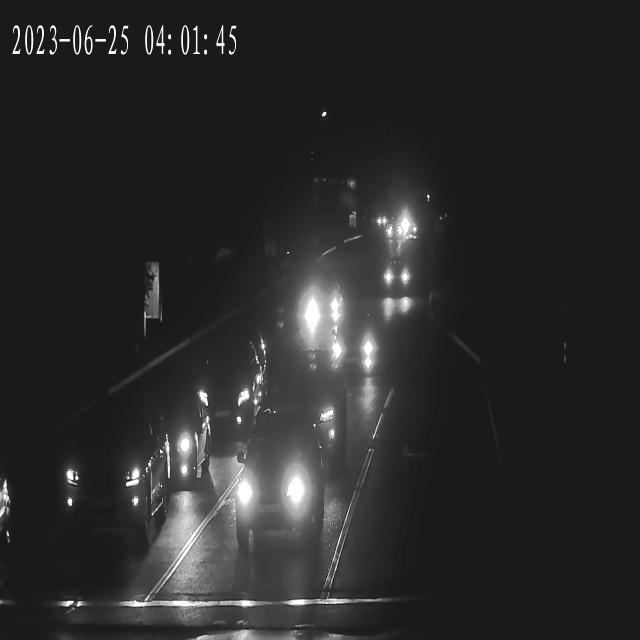Car: (43, 411, 160, 548), (230, 435, 327, 562), (262, 356, 342, 472), (127, 386, 212, 493), (183, 344, 266, 431), (328, 324, 384, 376), (295, 276, 341, 328), (380, 261, 412, 290), (394, 216, 415, 234), (399, 219, 419, 235), (384, 223, 402, 240), (385, 227, 404, 242), (372, 215, 387, 228)
